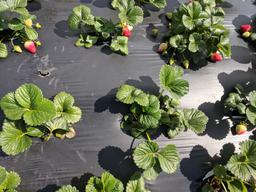green strawberry: (235, 123, 247, 135), (158, 42, 167, 52), (13, 45, 23, 53), (182, 59, 189, 68), (242, 31, 250, 37)
red strawberry: (23, 40, 36, 53), (121, 26, 132, 38), (210, 52, 221, 61), (240, 24, 251, 32)
